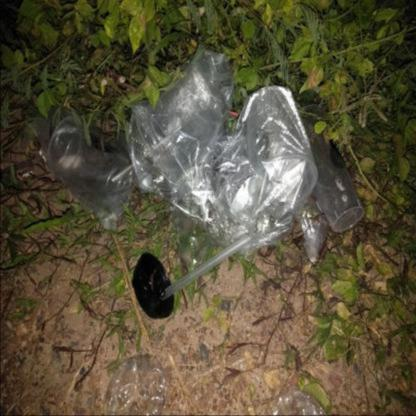Cup: (298, 104, 364, 232)
Lid: (133, 253, 174, 319)
Other plastic: (106, 354, 168, 415), (268, 385, 328, 415)
Plastic bag - wrapper: (31, 50, 328, 268)
Straw: (160, 235, 252, 302), (112, 125, 183, 183), (229, 111, 238, 117)
